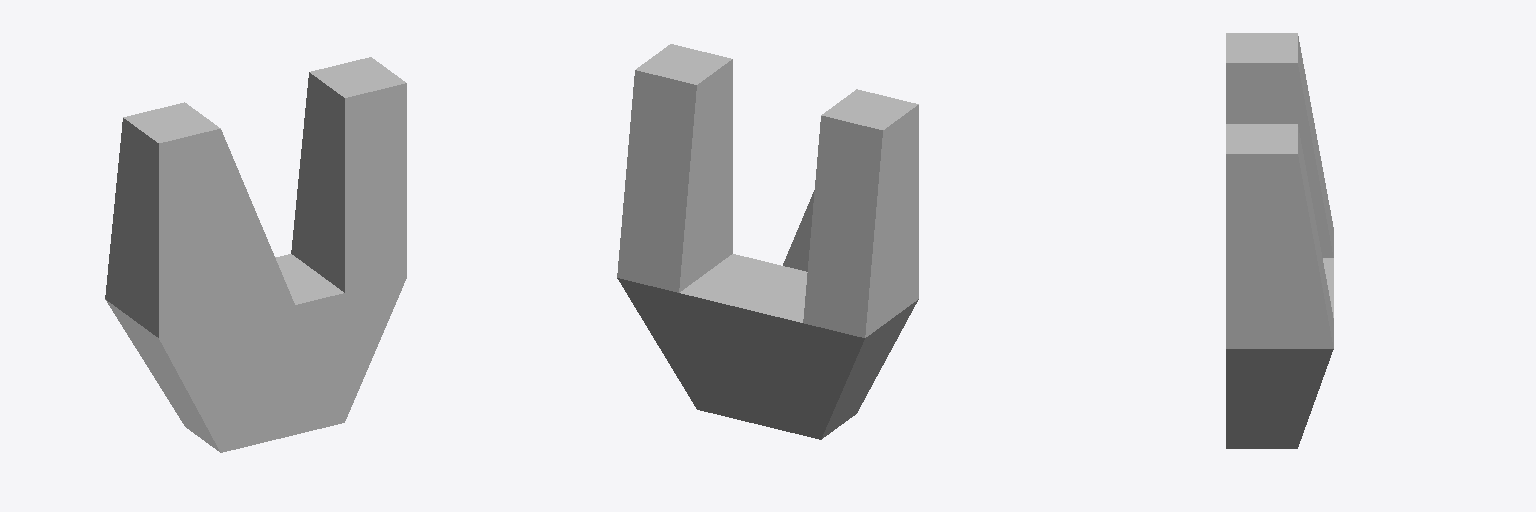
The model's file is hand.obj.
3 views of the same model, side by side, from view 1: azimuth 30°, elevation 25°; view 2: azimuth 150°, elevation 25°; view 3: azimuth 270°, elevation 25° (orthographic).
Visible parts, largest first — view 1: Cube.002; view 2: Cube.002; view 3: Cube.002.
Part boxes in pixels (x1,y1,x2,y2): Cube.002: (105, 57, 406, 452); Cube.002: (617, 44, 918, 439); Cube.002: (1226, 33, 1333, 448).
Size of the model in its own units: 0.8 by 1 by 0.3.